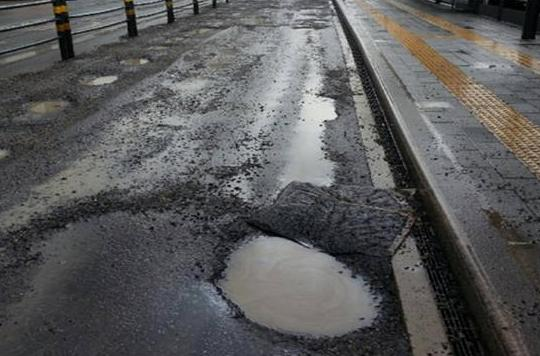pothole: (208, 214, 395, 351), (31, 90, 77, 117), (76, 69, 128, 91), (111, 52, 154, 68), (176, 24, 214, 38), (0, 144, 19, 167)
